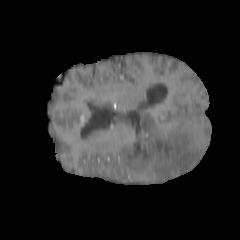glioma: (119, 109, 201, 178)
